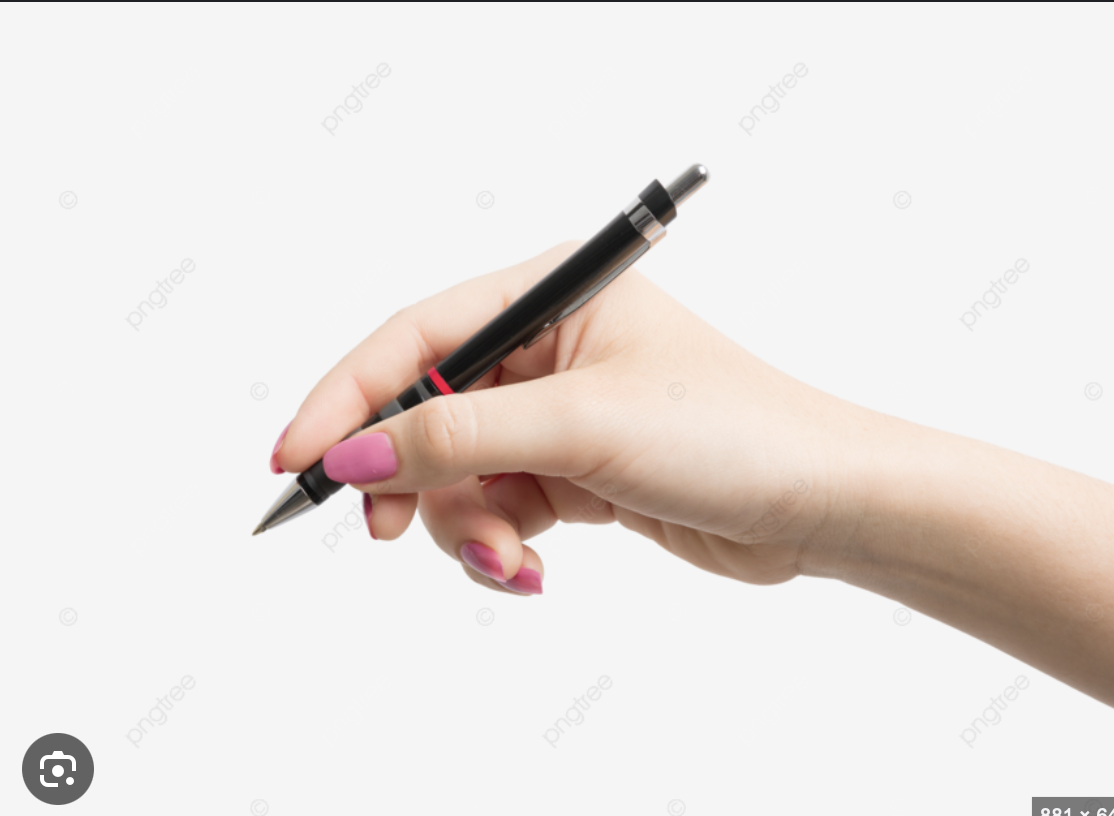pen: (248, 148, 715, 537)
